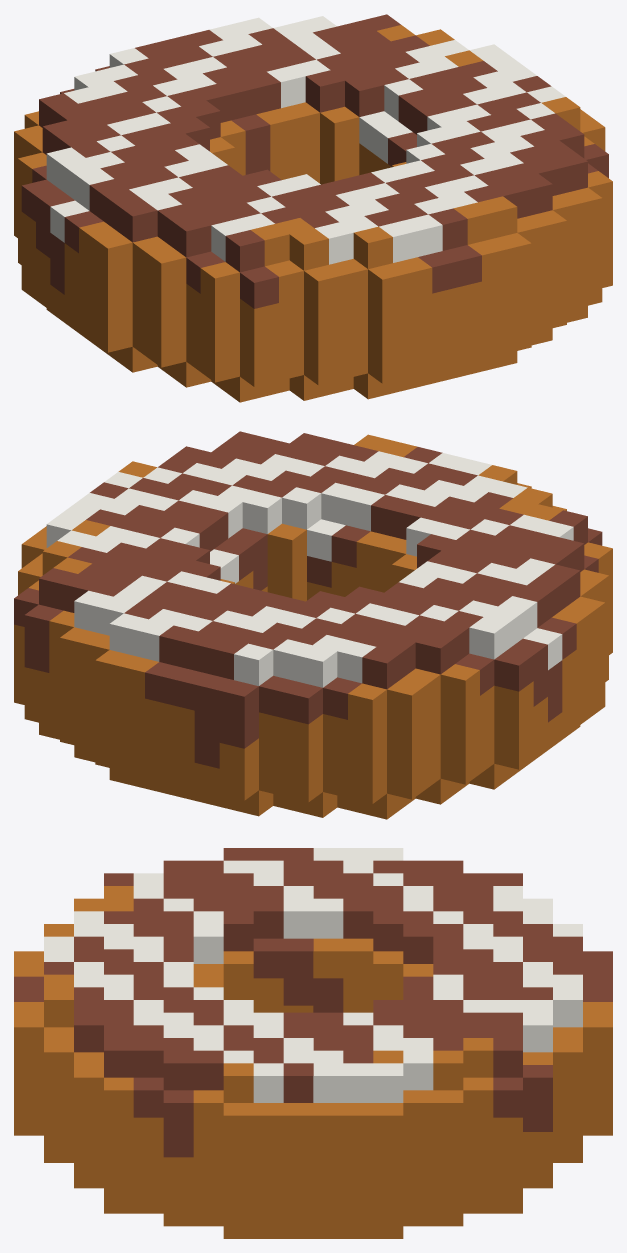
Rendered from ChocolateDonut.obj.
3 views of the same model, one above another, from view 1: azimuth 30°, elevation 25°; view 2: azimuth 150°, elevation 25°; view 3: azimuth 270°, elevation 25° (orthographic). The views are drawn at different scales.
Visible parts, largest first — view 1: Untitled.001; view 2: Untitled.001; view 3: Untitled.001.
Boxes of the visible parts, bbox=[...] form: Untitled.001: bbox=[14, 14, 612, 402]; Untitled.001: bbox=[14, 431, 612, 819]; Untitled.001: bbox=[14, 848, 612, 1238].
Size of the model in its own units: 3.8 by 1.14 by 3.8.
Materials: 1 (1 with a texture image).
